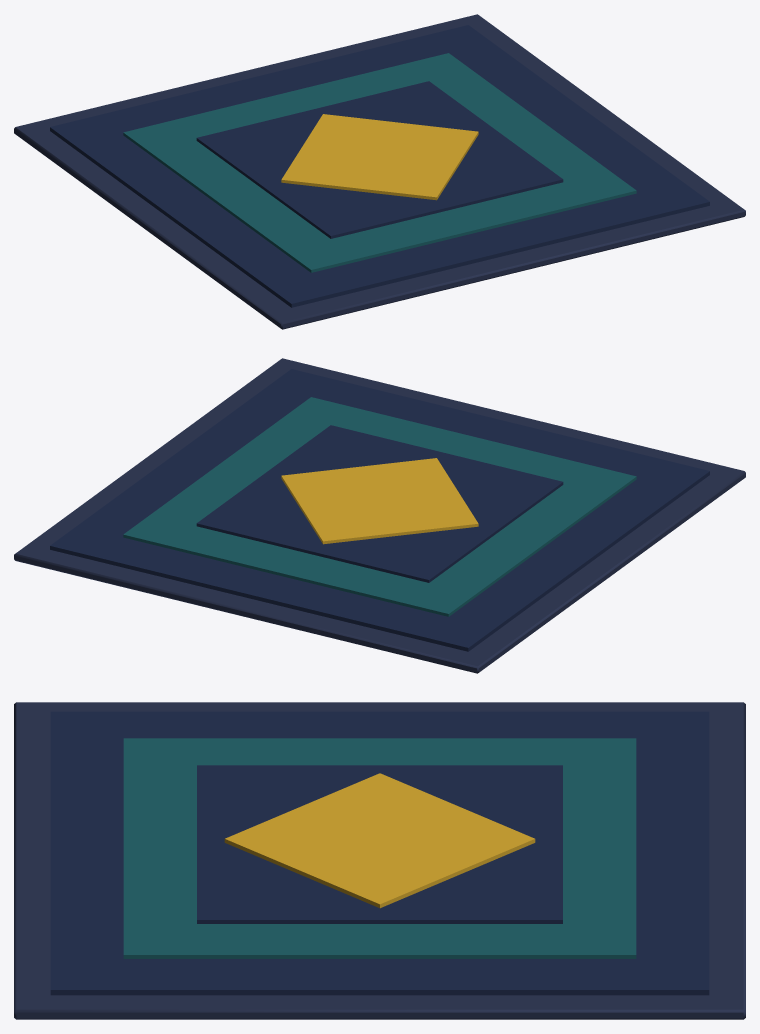
Rendered from floorpanel_carpet_tile_1x1.glb.
3 views of the same model, one above another, from view 1: azimuth 30°, elevation 25°; view 2: azimuth 150°, elevation 25°; view 3: azimuth 270°, elevation 25° (orthographic). The views are drawn at different scales.
Visible parts, largest first — view 1: floorpanel_carpet_tile_1x1; view 2: floorpanel_carpet_tile_1x1; view 3: floorpanel_carpet_tile_1x1.
Part boxes in pixels (left/top/right/bottom): floorpanel_carpet_tile_1x1: left=14, top=14, right=745, bottom=329; floorpanel_carpet_tile_1x1: left=14, top=358, right=745, bottom=673; floorpanel_carpet_tile_1x1: left=14, top=702, right=745, bottom=1019.
Size of the model in its own units: 1 by 0.041 by 1.
